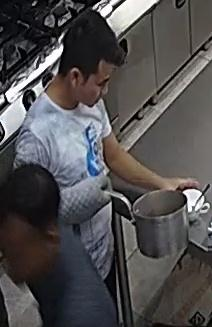no_apron: (26, 81, 123, 280)
